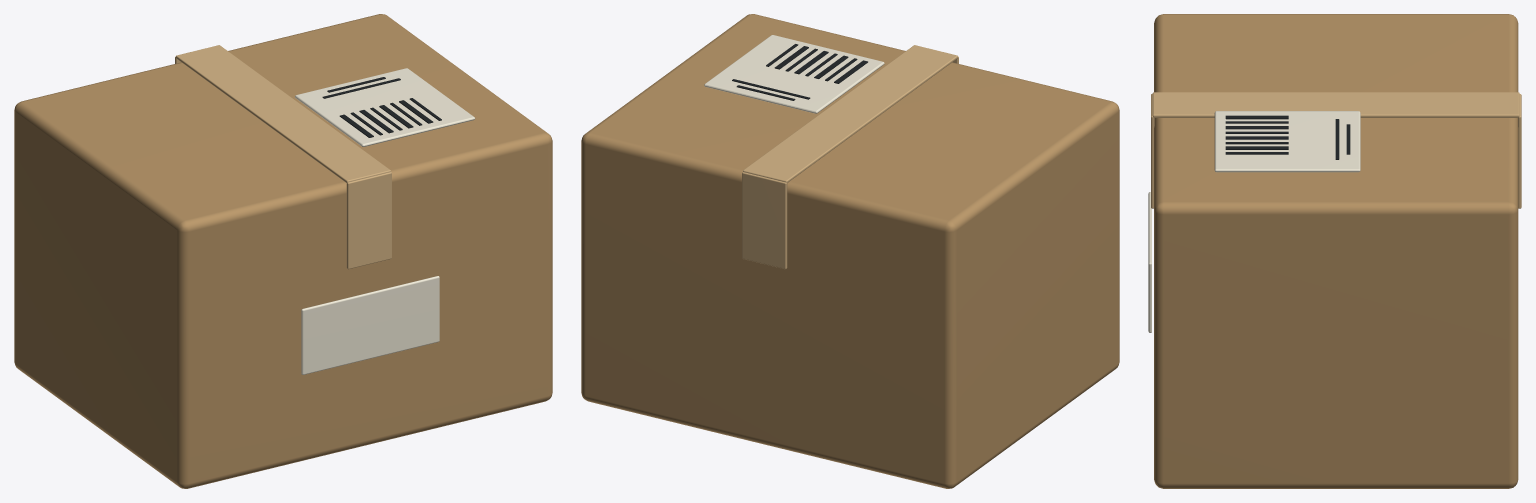
File: HotelTogether-HotelParcel.glb
The picture shows the model from 3 angles, left to right: view 1: azimuth 30°, elevation 25°; view 2: azimuth 150°, elevation 25°; view 3: azimuth 270°, elevation 25°; orthographic projection. The views are drawn at different scales.
Visible parts, largest first — view 1: Parcel_Carton, Parcel_FrontLogo, Parcel_TapeTop, Parcel_Label, Parcel_TapeEnd; view 2: Parcel_Carton, Parcel_TapeTop, Parcel_Label, Parcel_TapeEnd.001; view 3: Parcel_Carton, Parcel_TapeTop, Parcel_Label, Parcel_FrontLogo, Parcel_TapeEnd.001.
Boxes of the visible parts, box(x1,y1,x2,y2) form: Parcel_Carton: box(14, 14, 552, 488); Parcel_FrontLogo: box(301, 276, 439, 374); Parcel_TapeTop: box(176, 45, 390, 182); Parcel_Label: box(295, 68, 475, 146); Parcel_TapeEnd: box(346, 172, 391, 269); Parcel_Carton: box(581, 14, 1119, 488); Parcel_TapeTop: box(743, 45, 957, 182); Parcel_Label: box(704, 35, 884, 113); Parcel_TapeEnd.001: box(742, 172, 787, 269); Parcel_Carton: box(1154, 14, 1518, 488); Parcel_TapeTop: box(1152, 92, 1519, 117); Parcel_Label: box(1214, 111, 1360, 172); Parcel_FrontLogo: box(1148, 192, 1151, 332); Parcel_TapeEnd.001: box(1518, 94, 1521, 208).
Bounding box in the file's own units: 0.38 × 0.2695 × 0.307.
